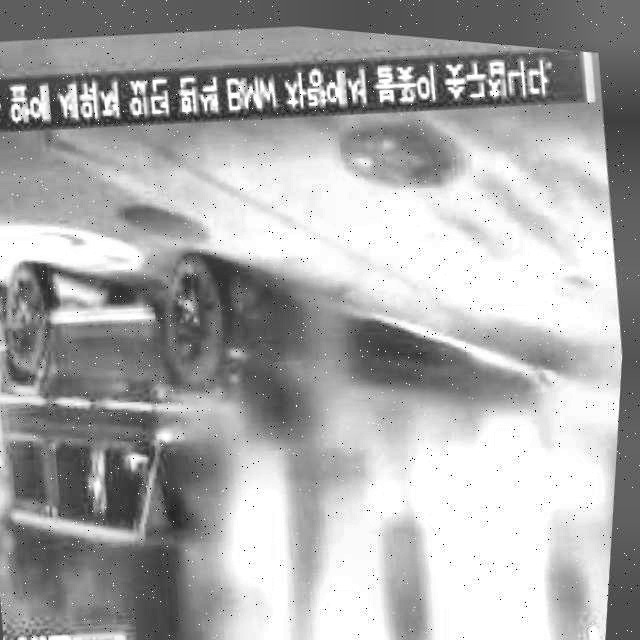Fire: (0, 391, 24, 530)
